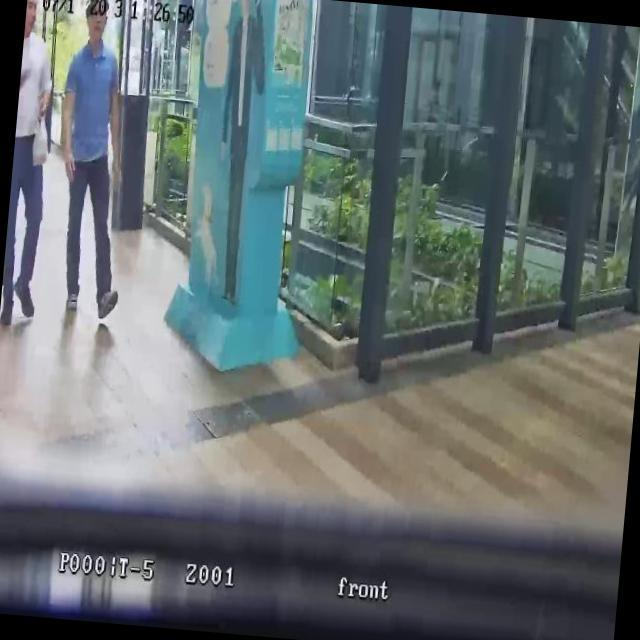person: (43, 0, 144, 322), (0, 0, 63, 328)
